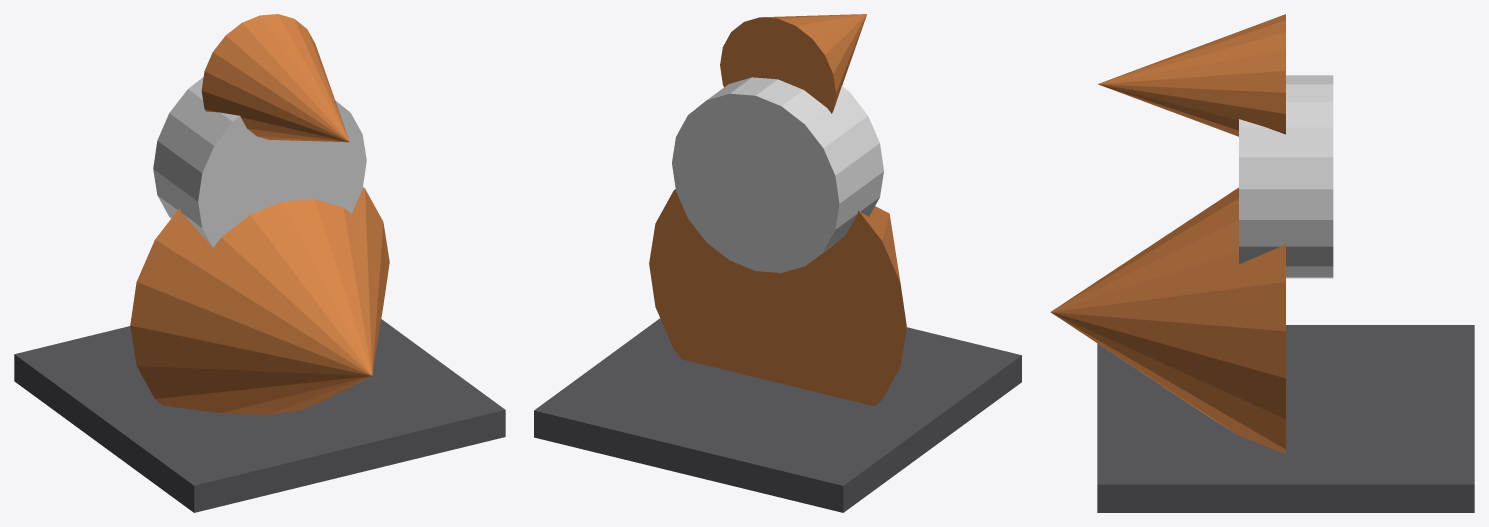
File: barrier.glb
3 renders of one model, left to right at view 1: azimuth 30°, elevation 25°; view 2: azimuth 150°, elevation 25°; view 3: azimuth 270°, elevation 25°, orthographic. The views are drawn at different scales.
Visible parts, largest first — view 1: cone_lower, base, cone_stripe, cone_upper; view 2: base, cone_lower, cone_stripe, cone_upper; view 3: base, cone_lower, cone_stripe, cone_upper.
Part boxes in pixels (<box>): cone_lower: <box>130,187,389,414</box>; base: <box>14,319,505,512</box>; cone_stripe: <box>153,77,366,247</box>; cone_upper: <box>201,14,349,142</box>; base: <box>534,318,1021,512</box>; cone_lower: <box>649,189,906,406</box>; cone_stripe: <box>672,77,883,272</box>; cone_upper: <box>720,14,866,113</box>; base: <box>1097,325,1474,512</box>; cone_lower: <box>1050,187,1285,454</box>; cone_stripe: <box>1239,75,1333,278</box>; cone_upper: <box>1098,14,1285,136</box>.
Bounding box in the file's own units: 0.48 × 0.61 × 0.54.
